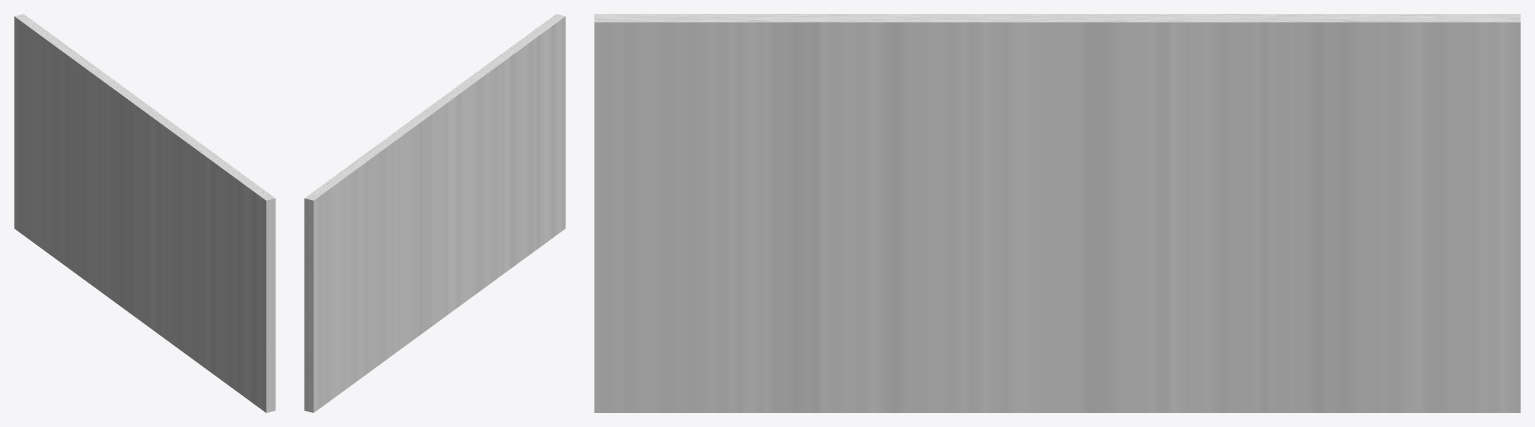
File: mur2.fbx
3 renders of one model, left to right at view 1: azimuth 30°, elevation 25°; view 2: azimuth 150°, elevation 25°; view 3: azimuth 270°, elevation 25°, orthographic. The views are drawn at different scales.
Parts seen in each view (by area): view 1: msh_mûr2; view 2: msh_mûr2; view 3: msh_mûr2.
Boxes of the visible parts, x1,y1,x2,y2 form: msh_mûr2: (14, 14, 275, 412); msh_mûr2: (304, 14, 565, 412); msh_mûr2: (594, 14, 1520, 412).
Size of the model in its own units: 1.14 by 24.48 by 52.61.
1 material, 1 textured.
